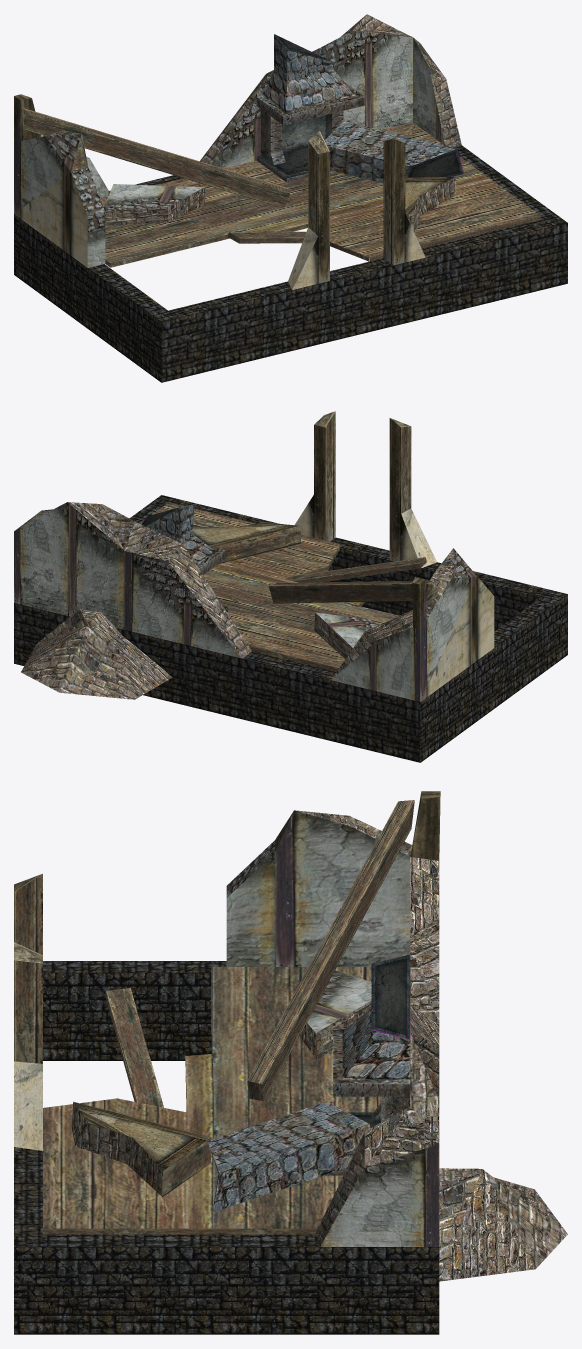
The model's file is S_Ruin08.glb.
The picture shows the model from 3 angles, top to bottom: view 1: azimuth 30°, elevation 25°; view 2: azimuth 150°, elevation 25°; view 3: azimuth 270°, elevation 25°; orthographic projection. The views are drawn at different scales.
Visible parts, largest first — view 1: S_Ruin08; view 2: S_Ruin08; view 3: S_Ruin08.
Boxes of the visible parts, x1,y1,x2,y2 form: S_Ruin08: (14,14,567,382); S_Ruin08: (14,411,567,762); S_Ruin08: (14,791,567,1334).
Size of the model in its own units: 7.07 by 3.35 by 5.73.
10 materials, 10 textured.
